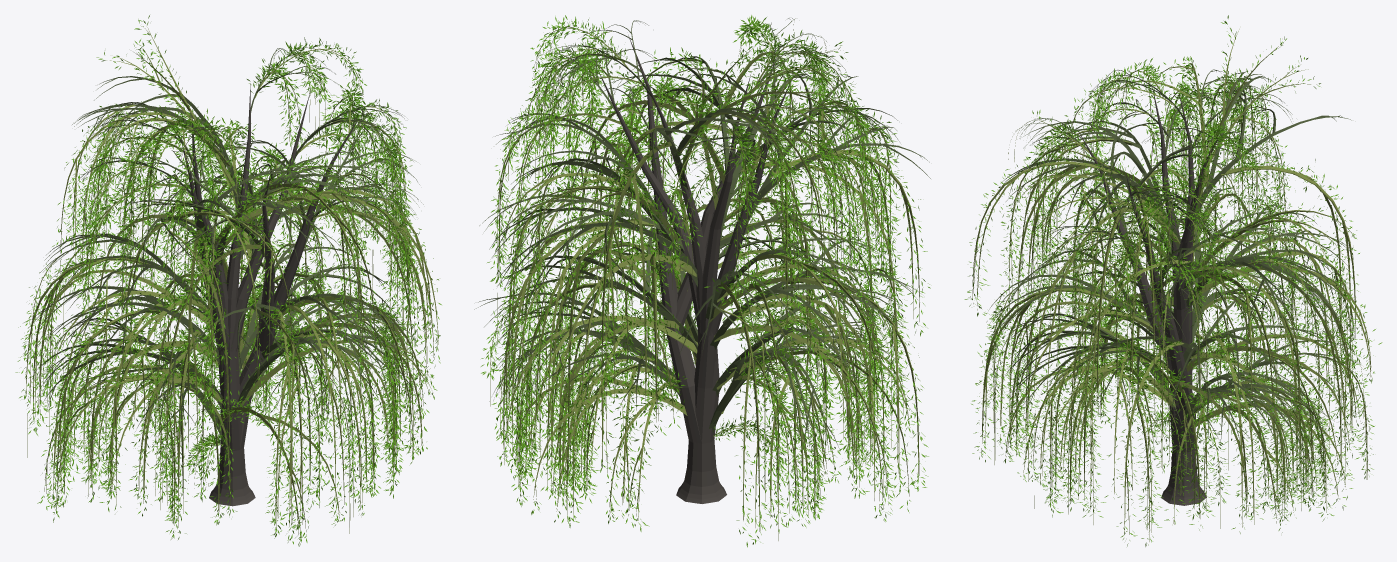
Rendered from weepingWillow.obj.
3 views of the same model, side by side, from view 1: azimuth 30°, elevation 25°; view 2: azimuth 150°, elevation 25°; view 3: azimuth 270°, elevation 25° (orthographic). The views are drawn at different scales.
Parts seen in each view (by area): view 1: stems_2, leaves, leaves2, stems_1, trunk; view 2: stems_2, leaves, leaves2, stems_1, trunk; view 3: stems_2, leaves, leaves2, stems_1, trunk.
Part boxes in pixels (x1,y1,x2,y2): stems_2: (26,26,438,539); leaves: (15,15,440,545); leaves2: (18,19,441,546); stems_1: (31,47,423,443); trunk: (181,83,357,506); stems_2: (490,20,919,540); leaves: (481,15,929,547); leaves2: (485,17,930,543); stems_1: (474,18,930,454); trunk: (596,35,792,503); stems_2: (972,29,1371,541); leaves: (964,15,1382,546); leaves2: (967,21,1374,546); stems_1: (986,69,1360,458); trunk: (1076,90,1217,505).
Bounding box in the file's own units: 11.51 × 13.15 × 11.22.
